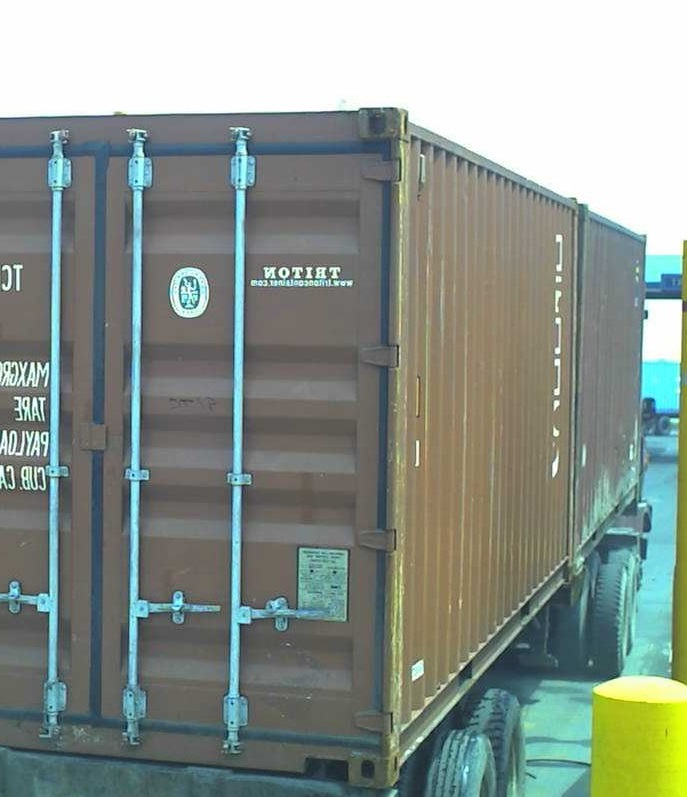container_door: (1, 109, 392, 792)
